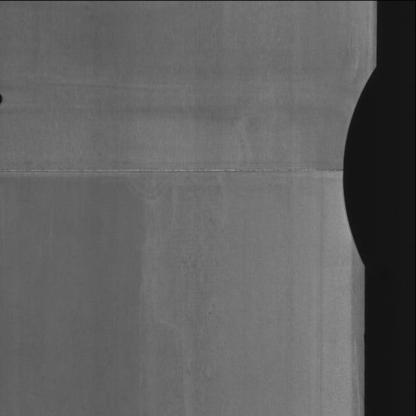crescent_gap: (337, 62, 388, 273)
welding_line: (0, 159, 345, 184)
